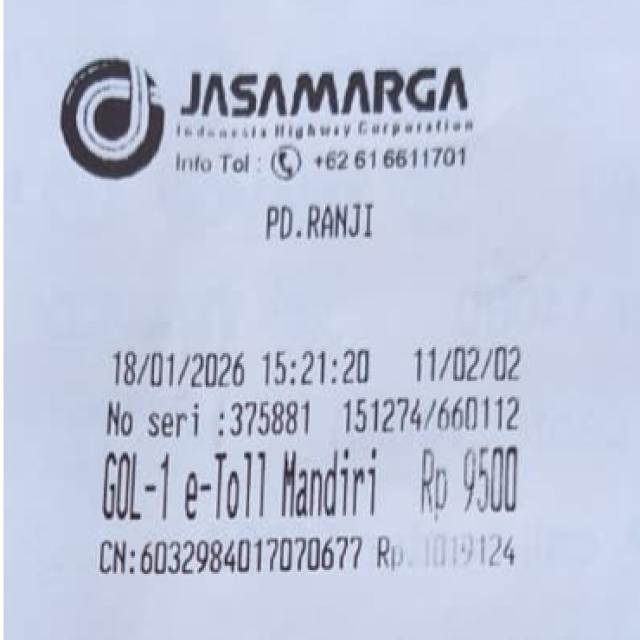date: (104, 332, 373, 387)
store: (167, 66, 487, 142)
total: (413, 445, 530, 528)
